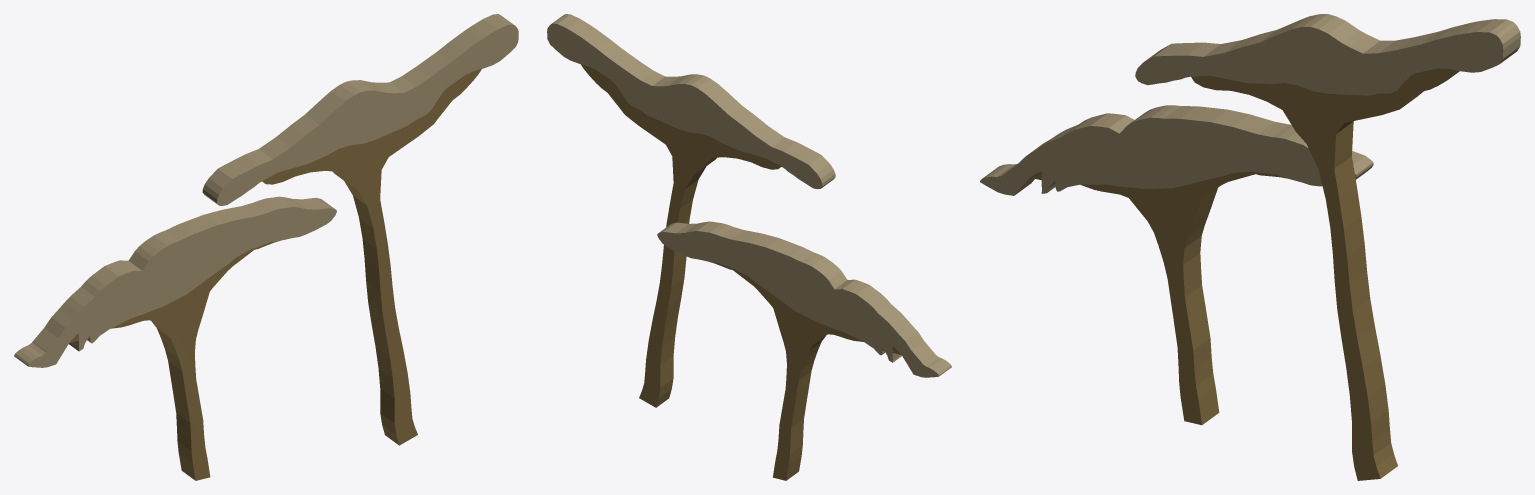
The model's file is Mushroom_2.fbx.
3 views of the same model, side by side, from view 1: azimuth 30°, elevation 25°; view 2: azimuth 150°, elevation 25°; view 3: azimuth 330°, elevation 25° (orthographic). The views are drawn at different scales.
Visible parts, largest first — view 1: pPlane31, pPlane32; view 2: pPlane31, pPlane32; view 3: pPlane31, pPlane32.
Part boxes in pixels (x1,y1,x2,y2): pPlane31: [202, 14, 518, 445]; pPlane32: [14, 196, 336, 480]; pPlane31: [547, 14, 835, 407]; pPlane32: [657, 221, 951, 480]; pPlane31: [1135, 14, 1520, 480]; pPlane32: [980, 105, 1373, 425].
Size of the model in its own units: 0.6372 by 0.5428 by 0.1077.
